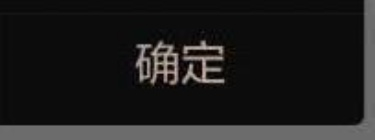Button: (1, 1, 374, 139)
